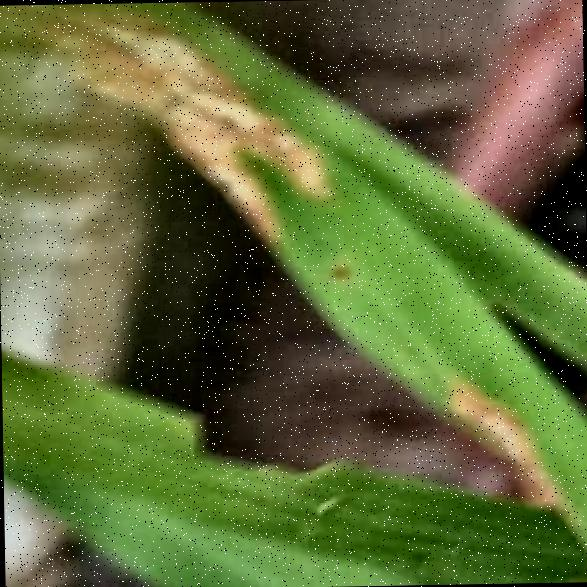Leaf_smut: (103, 7, 336, 246), (390, 332, 557, 503)
